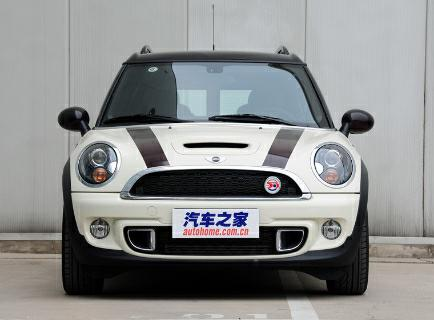MINI CLUBMAN: (40, 61, 390, 301)
